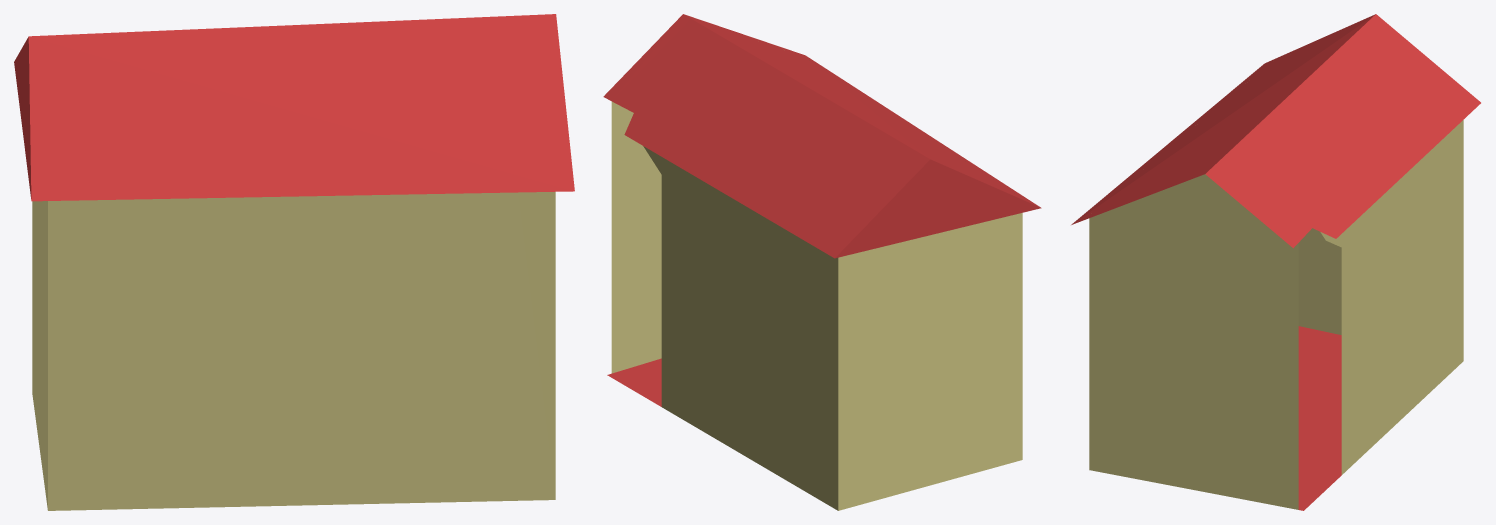
The picture shows the model from 3 angles, left to right: view 1: azimuth 30°, elevation 25°; view 2: azimuth 150°, elevation 25°; view 3: azimuth 270°, elevation 25°; orthographic projection. The views are drawn at different scales.
Size of the model in its own units: 17.51 by 14.98 by 13.04.
